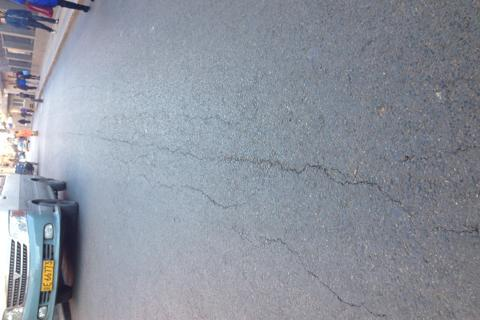crack: (170, 148, 401, 208), (266, 238, 387, 320), (55, 129, 164, 157)
